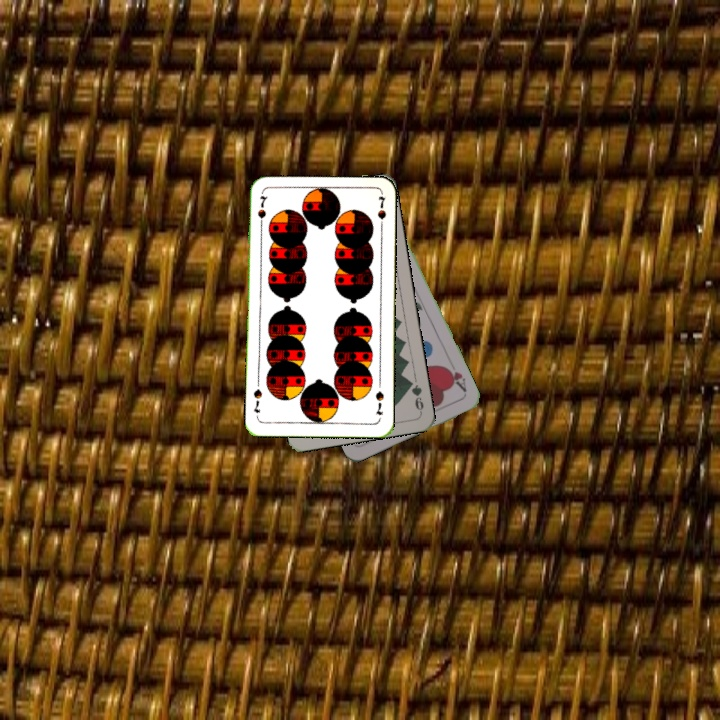G9: (404, 376, 426, 415)
HA: (441, 357, 469, 395)
S7: (254, 191, 270, 231), (371, 387, 386, 418)
